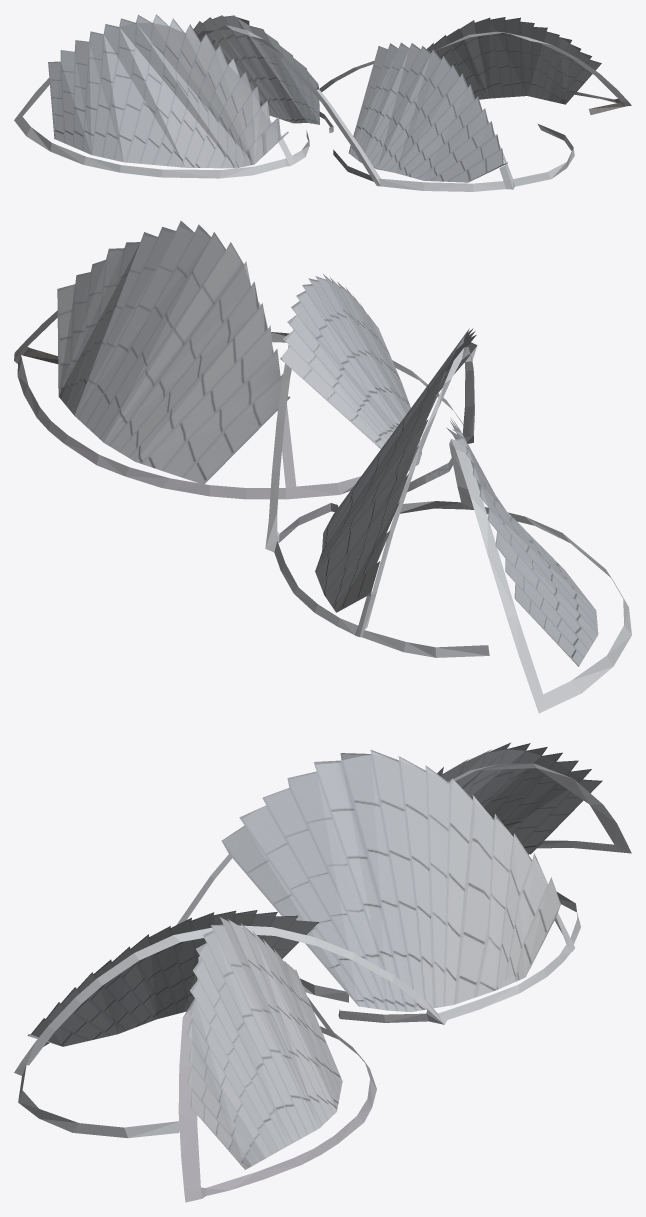
Rendered from 119_PLACED.glb.
The picture shows the model from 3 angles, top to bottom: view 1: azimuth 30°, elevation 25°; view 2: azimuth 150°, elevation 25°; view 3: azimuth 270°, elevation 25°; orthographic projection. The views are drawn at different scales.
Visible parts, largest first — view 1: Plane; view 2: Plane; view 3: Plane.
Part boxes in pixels (box(x1,y1,x2,y2)): Plane: box(14, 14, 631, 191); Plane: box(14, 220, 631, 713); Plane: box(14, 742, 631, 1202).
Bounding box in the file's own units: 93.37 × 25.13 × 67.3.
Materials: 1 (1 with a texture image).
